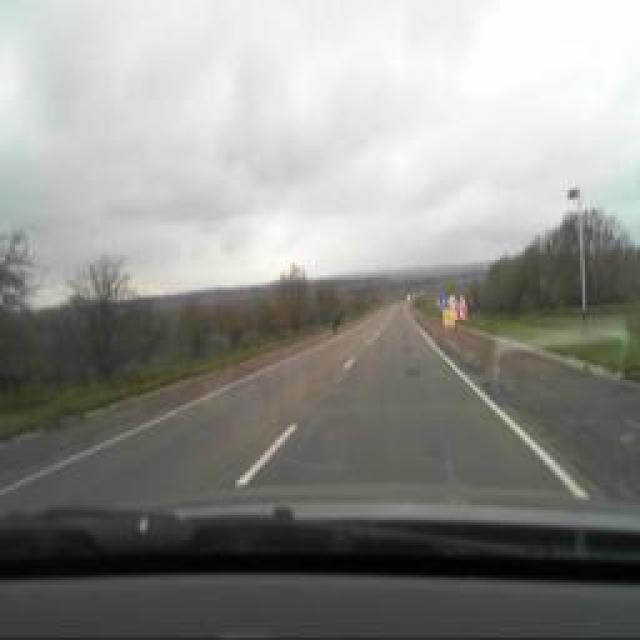sign: (448, 294, 458, 308)
